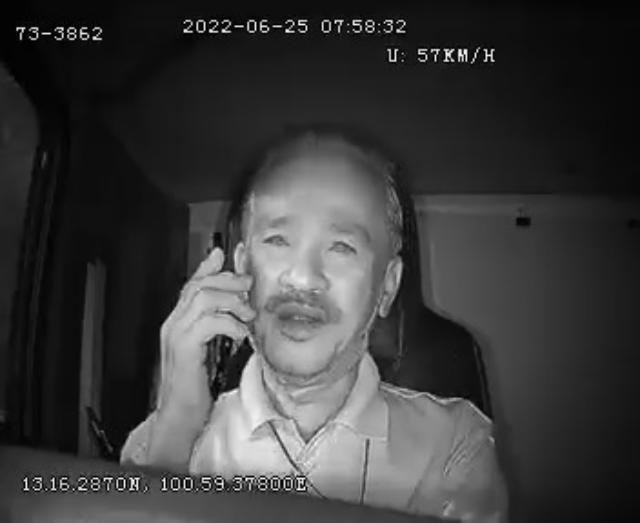PhoneUse: (194, 227, 238, 404)
SafeDriving: (320, 226, 364, 264), (255, 218, 298, 254)
